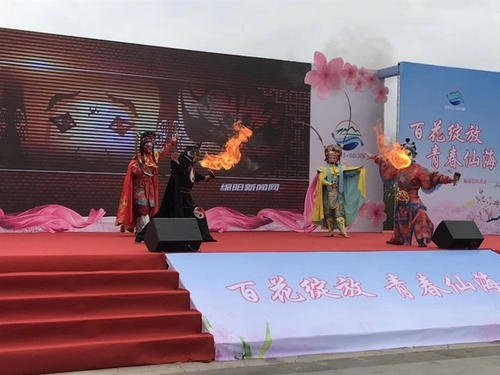fire: (197, 122, 253, 171), (373, 123, 413, 170)
